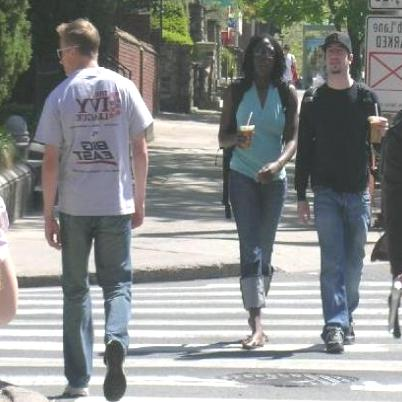ped: (36, 21, 156, 402), (299, 33, 388, 354), (219, 37, 301, 350)
